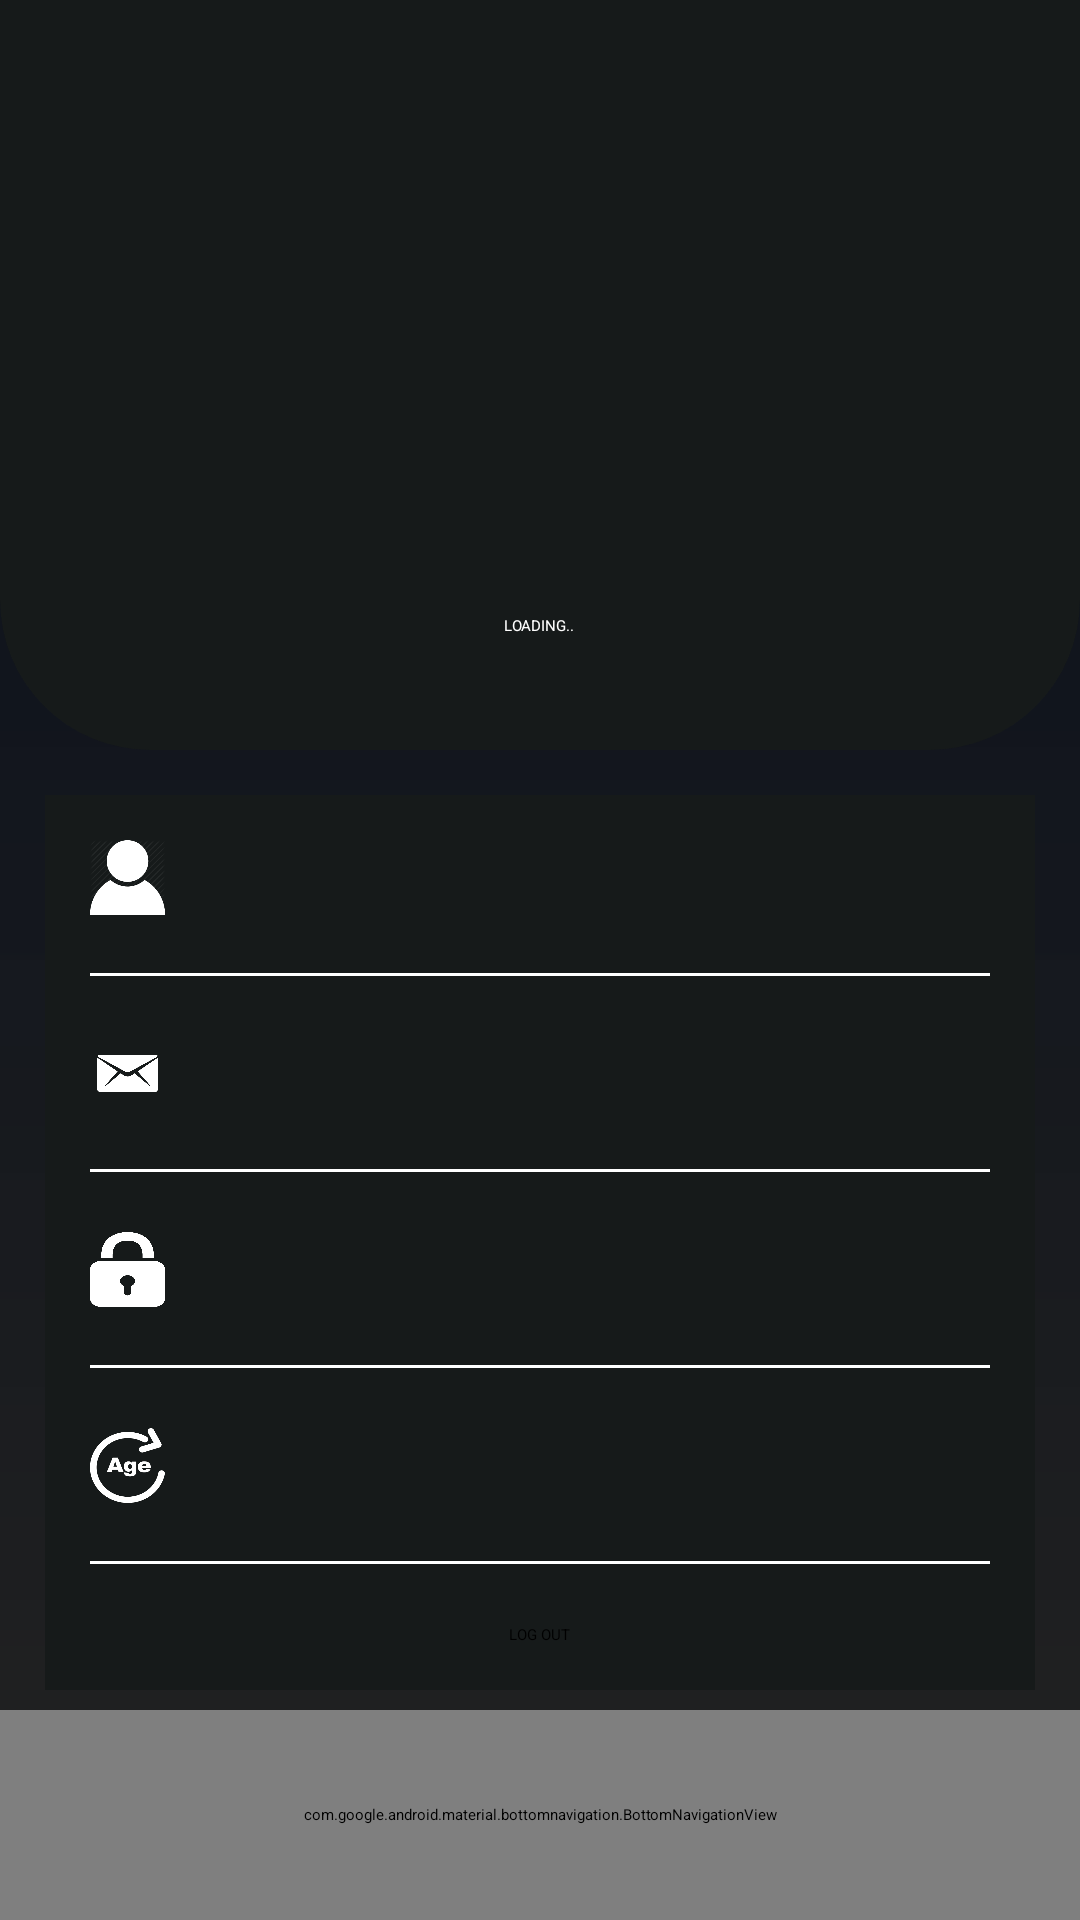

Where icons sit on this 1080x1920 app screen, as bbox(x1, y1, x2, y2):
email: bbox(97, 1055, 158, 1092)
password: bbox(90, 1232, 165, 1307)
profile: bbox(90, 840, 165, 915)
